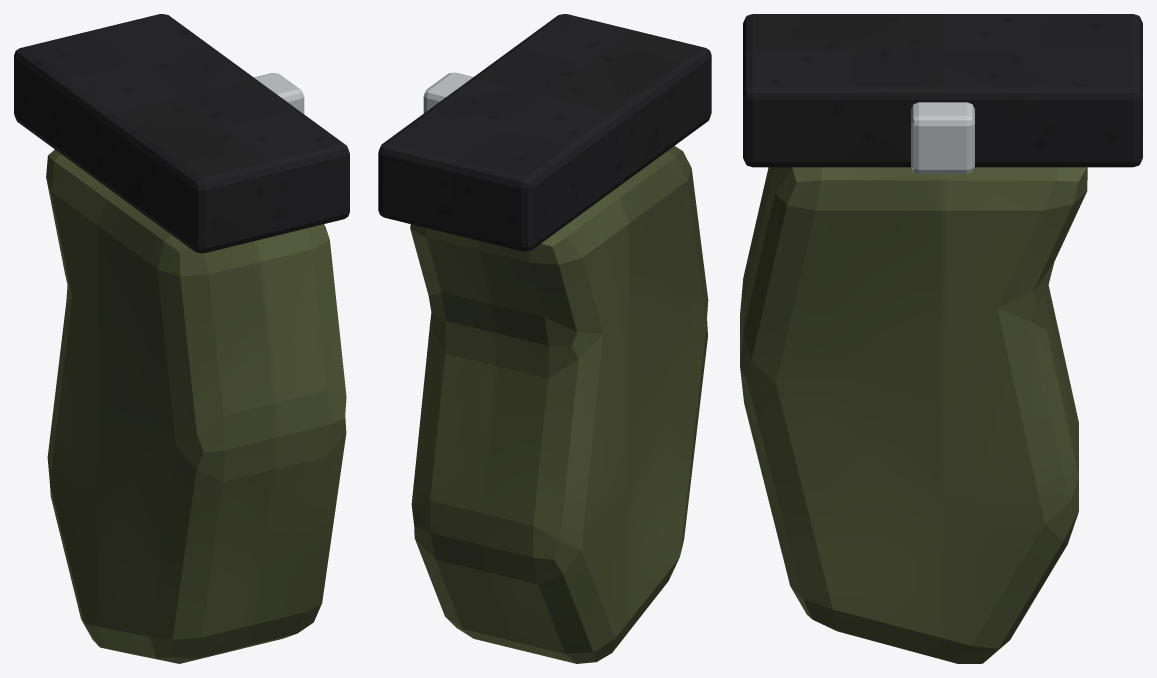
Rendered from grip_ergonomic.glb.
3 renders of one model, left to right at view 1: azimuth 30°, elevation 25°; view 2: azimuth 150°, elevation 25°; view 3: azimuth 270°, elevation 25°, orthographic. The views are drawn at different scales.
Visible parts, largest first — view 1: body, g_clamp, g_screw; view 2: body, g_clamp, g_screw; view 3: body, g_clamp, g_screw.
Boxes of the visible parts, x1,y1,x2,y2 form: body: [46, 149, 346, 663]; g_clamp: [14, 14, 349, 253]; g_screw: [254, 73, 304, 113]; body: [410, 146, 708, 663]; g_clamp: [378, 14, 711, 251]; g_screw: [423, 72, 473, 113]; body: [740, 167, 1087, 663]; g_clamp: [743, 14, 1142, 167]; g_screw: [911, 102, 974, 173].
Size of the model in its own units: 0.03 by 0.0806 by 0.0504.
3 materials, 2 textured.
